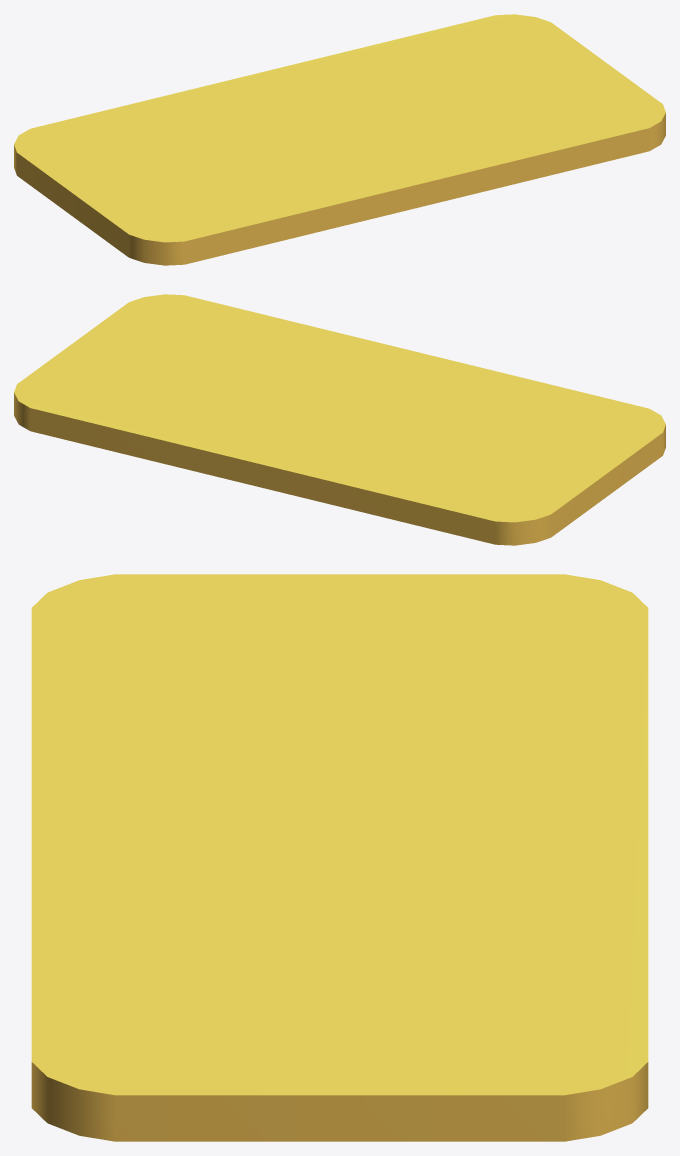
The model's file is table2.fbx.
3 views of the same model, one above another, from view 1: azimuth 30°, elevation 25°; view 2: azimuth 150°, elevation 25°; view 3: azimuth 270°, elevation 25° (orthographic). The views are drawn at different scales.
Parts seen in each view (by area): view 1: table2; view 2: table2; view 3: table2.
Part boxes in pixels (<box>): table2: <box>14,14,665,265</box>; table2: <box>14,294,665,545</box>; table2: <box>31,574,648,1141</box>.
Size of the model in its own units: 13.39 by 0.5561 by 6.7.
